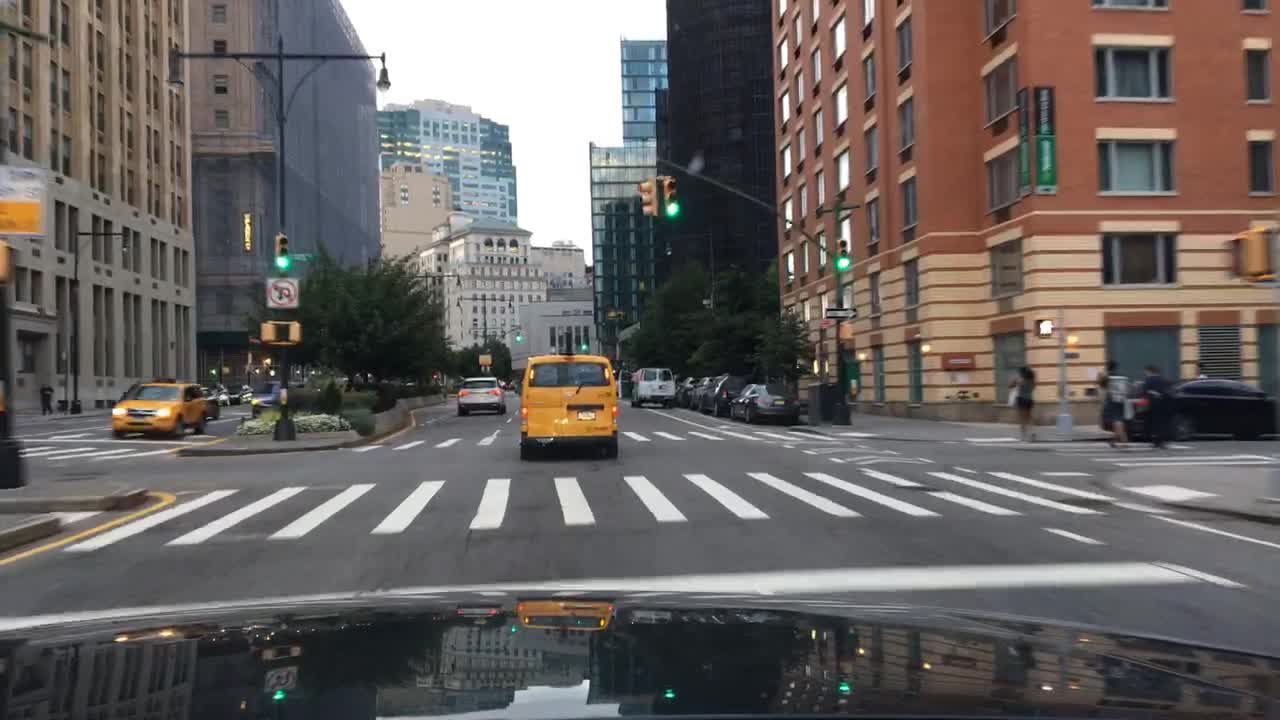car: (518, 353, 620, 458), (1131, 378, 1278, 440), (111, 379, 211, 439), (689, 372, 748, 415), (250, 378, 303, 420), (456, 376, 506, 416), (631, 367, 676, 409), (673, 374, 700, 407), (225, 380, 253, 405), (202, 384, 231, 408), (200, 387, 221, 420), (506, 379, 519, 391)
person: (1095, 358, 1137, 449), (1135, 363, 1177, 447), (1008, 363, 1037, 441), (37, 381, 55, 416), (1193, 360, 1210, 378)
traffic light: (260, 319, 302, 345), (662, 175, 681, 218), (0, 241, 18, 286), (639, 179, 658, 216), (273, 232, 289, 271), (835, 239, 849, 270), (1034, 317, 1054, 338), (579, 339, 588, 352), (514, 329, 522, 342)
traffic sign: (0, 166, 43, 235), (263, 276, 299, 308), (824, 307, 857, 319), (285, 252, 313, 259), (478, 353, 492, 364)
